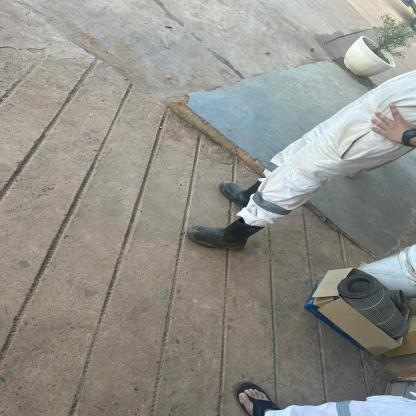bota: (185, 212, 267, 256), (215, 173, 261, 208)
